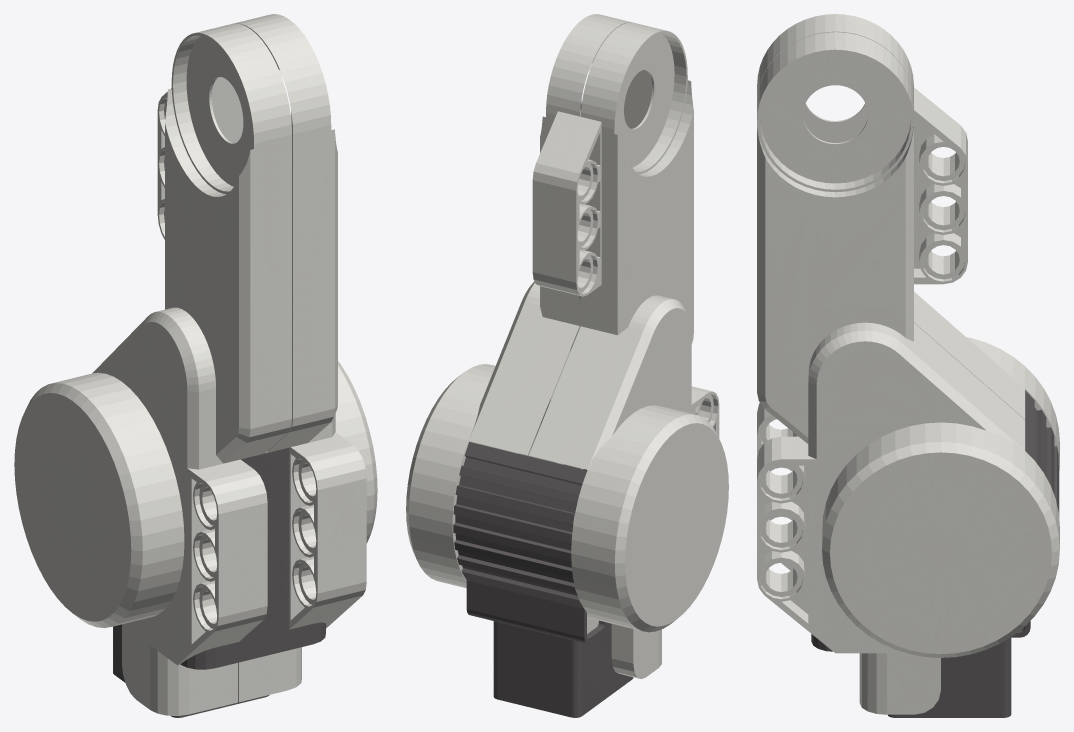
3 views of the same model, side by side, from view 1: azimuth 30°, elevation 25°; view 2: azimuth 150°, elevation 25°; view 3: azimuth 270°, elevation 25° (orthographic). The views are drawn at different scales.
Parts seen in each view (by area): view 1: node; view 2: node; view 3: node.
Boxes of the visible parts, box(x1,y1,x2,y2) form: node: box(14, 14, 377, 717); node: box(406, 14, 728, 717); node: box(757, 14, 1059, 717).
Bounding box in the file's own units: 99.5 × 270 × 112.
Materials: 1 (1 with a texture image).
